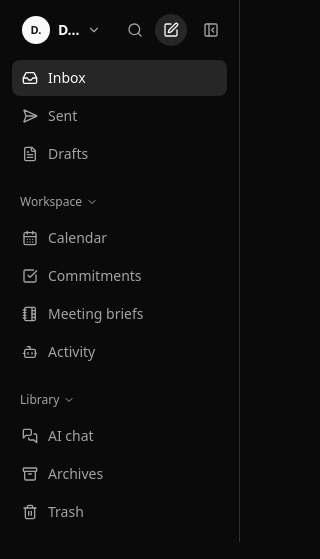
Test case: AppSidebar › persists collapsed sidebar state
Later steps or results of the test are not shown.
Click the button named "Collapse sidebar" at (211, 30), box [195, 14, 227, 46]
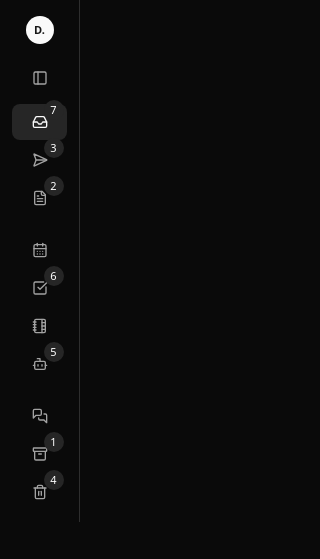
Expected: the button named "Expand sidebar" is shown, [12, 60, 67, 96]
